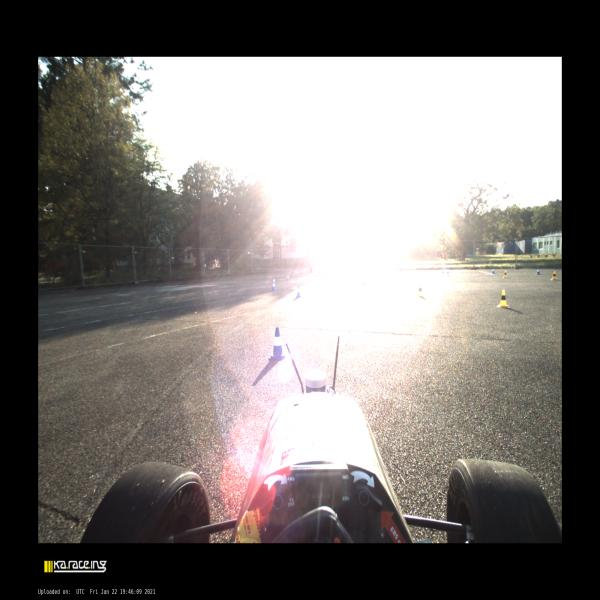blue_cone: (268, 326, 285, 360), (295, 284, 302, 298), (270, 280, 277, 290), (491, 266, 496, 275), (536, 267, 541, 275), (271, 278, 276, 286), (286, 274, 290, 280), (442, 268, 444, 274)
yellow_cone: (497, 289, 510, 309), (416, 284, 424, 298), (551, 270, 558, 281), (362, 279, 367, 291), (503, 269, 508, 278), (446, 270, 449, 277)
